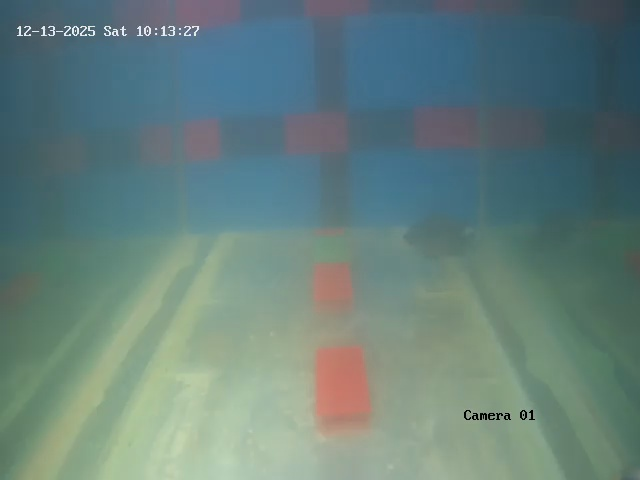fish: (407, 211, 488, 264)
